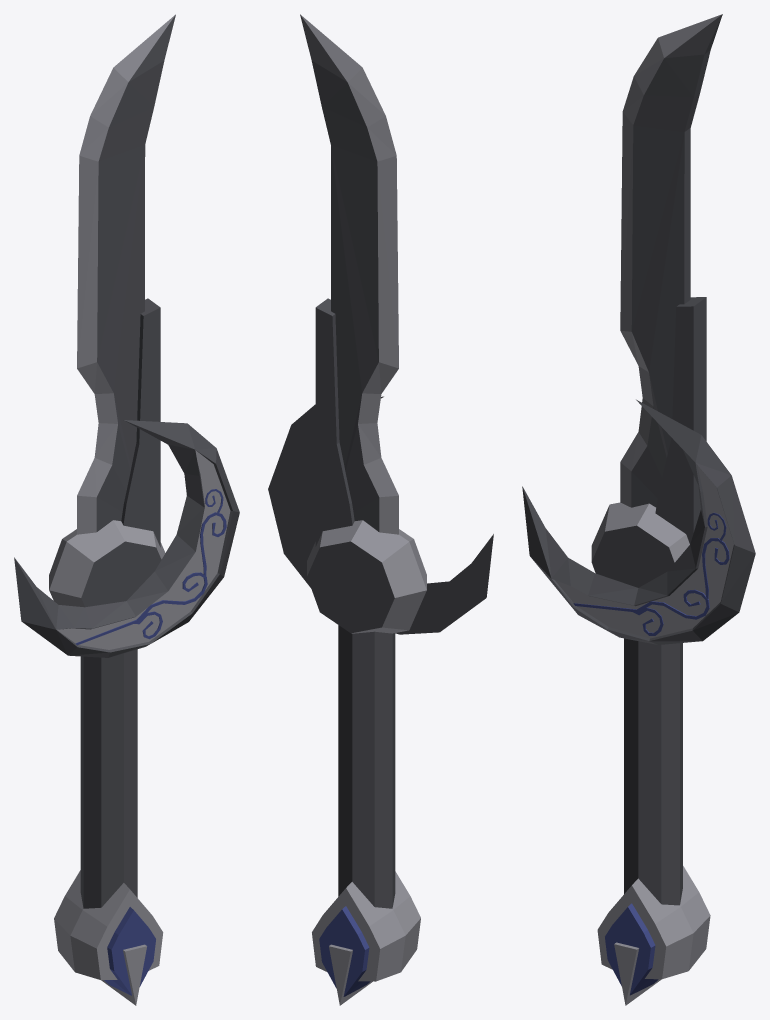
Rendered from dagger_dagger_24.glb.
3 views of the same model, side by side, from view 1: azimuth 30°, elevation 25°; view 2: azimuth 150°, elevation 25°; view 3: azimuth 330°, elevation 25° (orthographic). The views are drawn at different scales.
Visible parts, largest first — view 1: dagger_24; view 2: dagger_24; view 3: dagger_24.
Part boxes in pixels (left/top/right/bottom): dagger_24: left=14, top=14, right=239, bottom=1005; dagger_24: left=268, top=14, right=493, bottom=1005; dagger_24: left=522, top=14, right=755, bottom=1005.
Size of the model in its own units: 14.8 by 59.84 by 6.14.
1 material, 1 textured.
